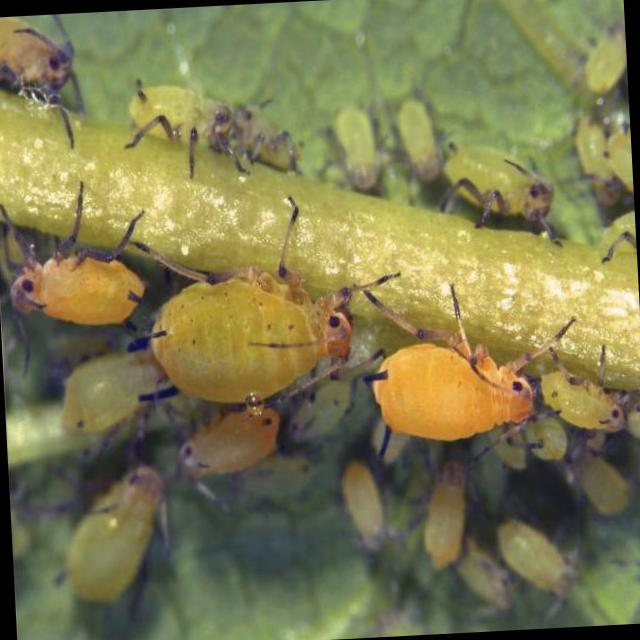aphid: (124, 198, 380, 432), (350, 266, 562, 482), (0, 162, 157, 375), (36, 440, 182, 633), (421, 132, 568, 258), (117, 74, 245, 182), (488, 501, 599, 625), (170, 395, 290, 494), (410, 440, 490, 584), (528, 342, 629, 451)
